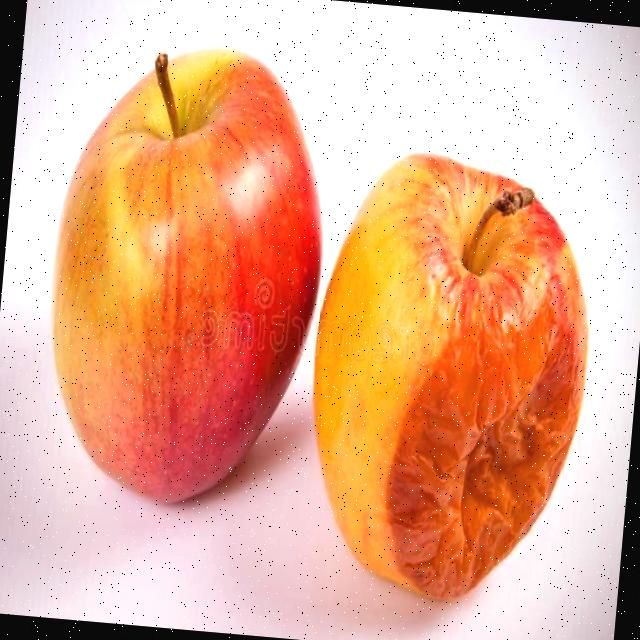apple: (6, 0, 363, 546)
rotten apple: (256, 101, 624, 638)
